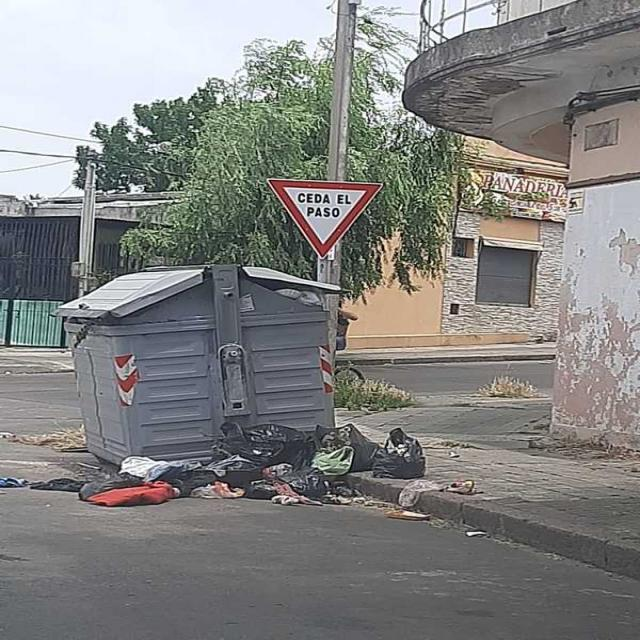garbage: (0, 406, 477, 512)
